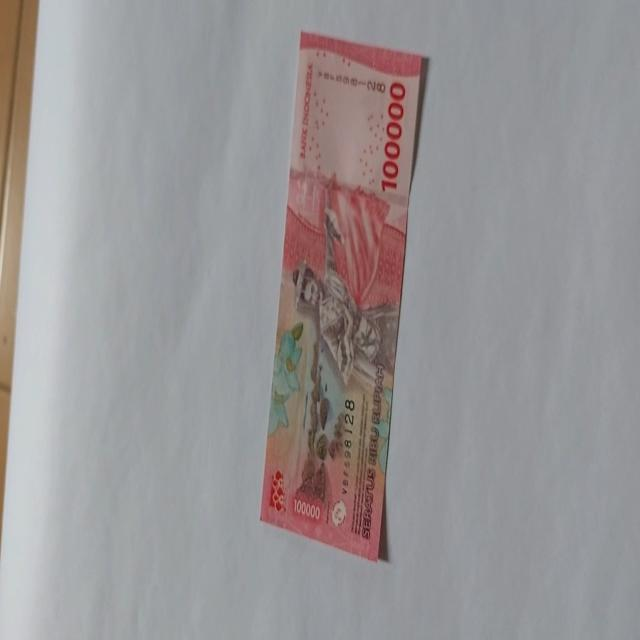seratus ribu rupiah: (258, 30, 428, 562), (291, 198, 391, 398)
